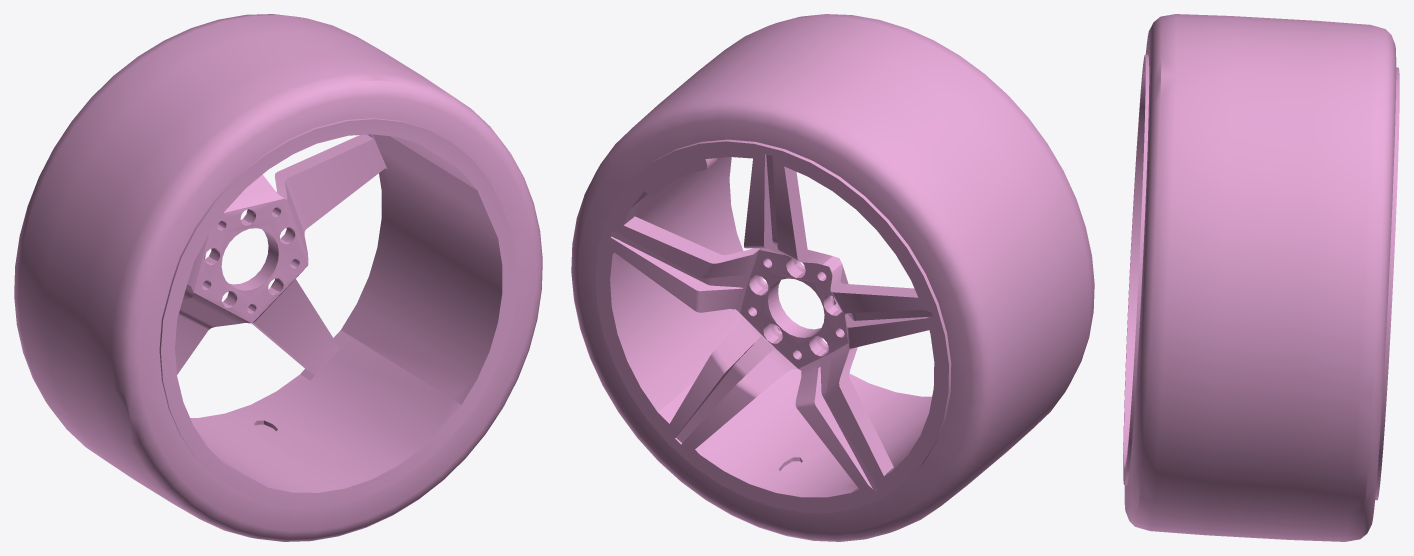
File: LlantaDelanteraD_ANC.obj
The picture shows the model from 3 angles, left to right: view 1: azimuth 30°, elevation 25°; view 2: azimuth 150°, elevation 25°; view 3: azimuth 270°, elevation 25°; orthographic projection. The views are drawn at different scales.
Visible parts, largest first — view 1: cylinder132; view 2: cylinder132; view 3: cylinder132.
Part boxes in pixels (x1=…): cylinder132: x1=14, y1=14, x2=542, y2=541; cylinder132: x1=571, y1=14, x2=1094, y2=541; cylinder132: x1=1123, y1=14, x2=1399, y2=541.
Bounding box in the file's own units: 3.35 × 3.41 × 1.78.
